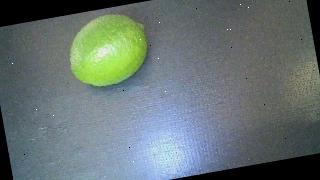EXPORTACION: (63, 10, 153, 92)
